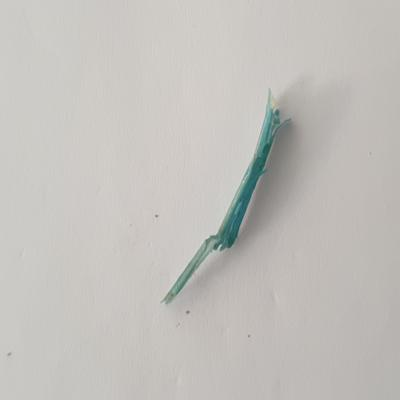plastic: (157, 84, 296, 314)
